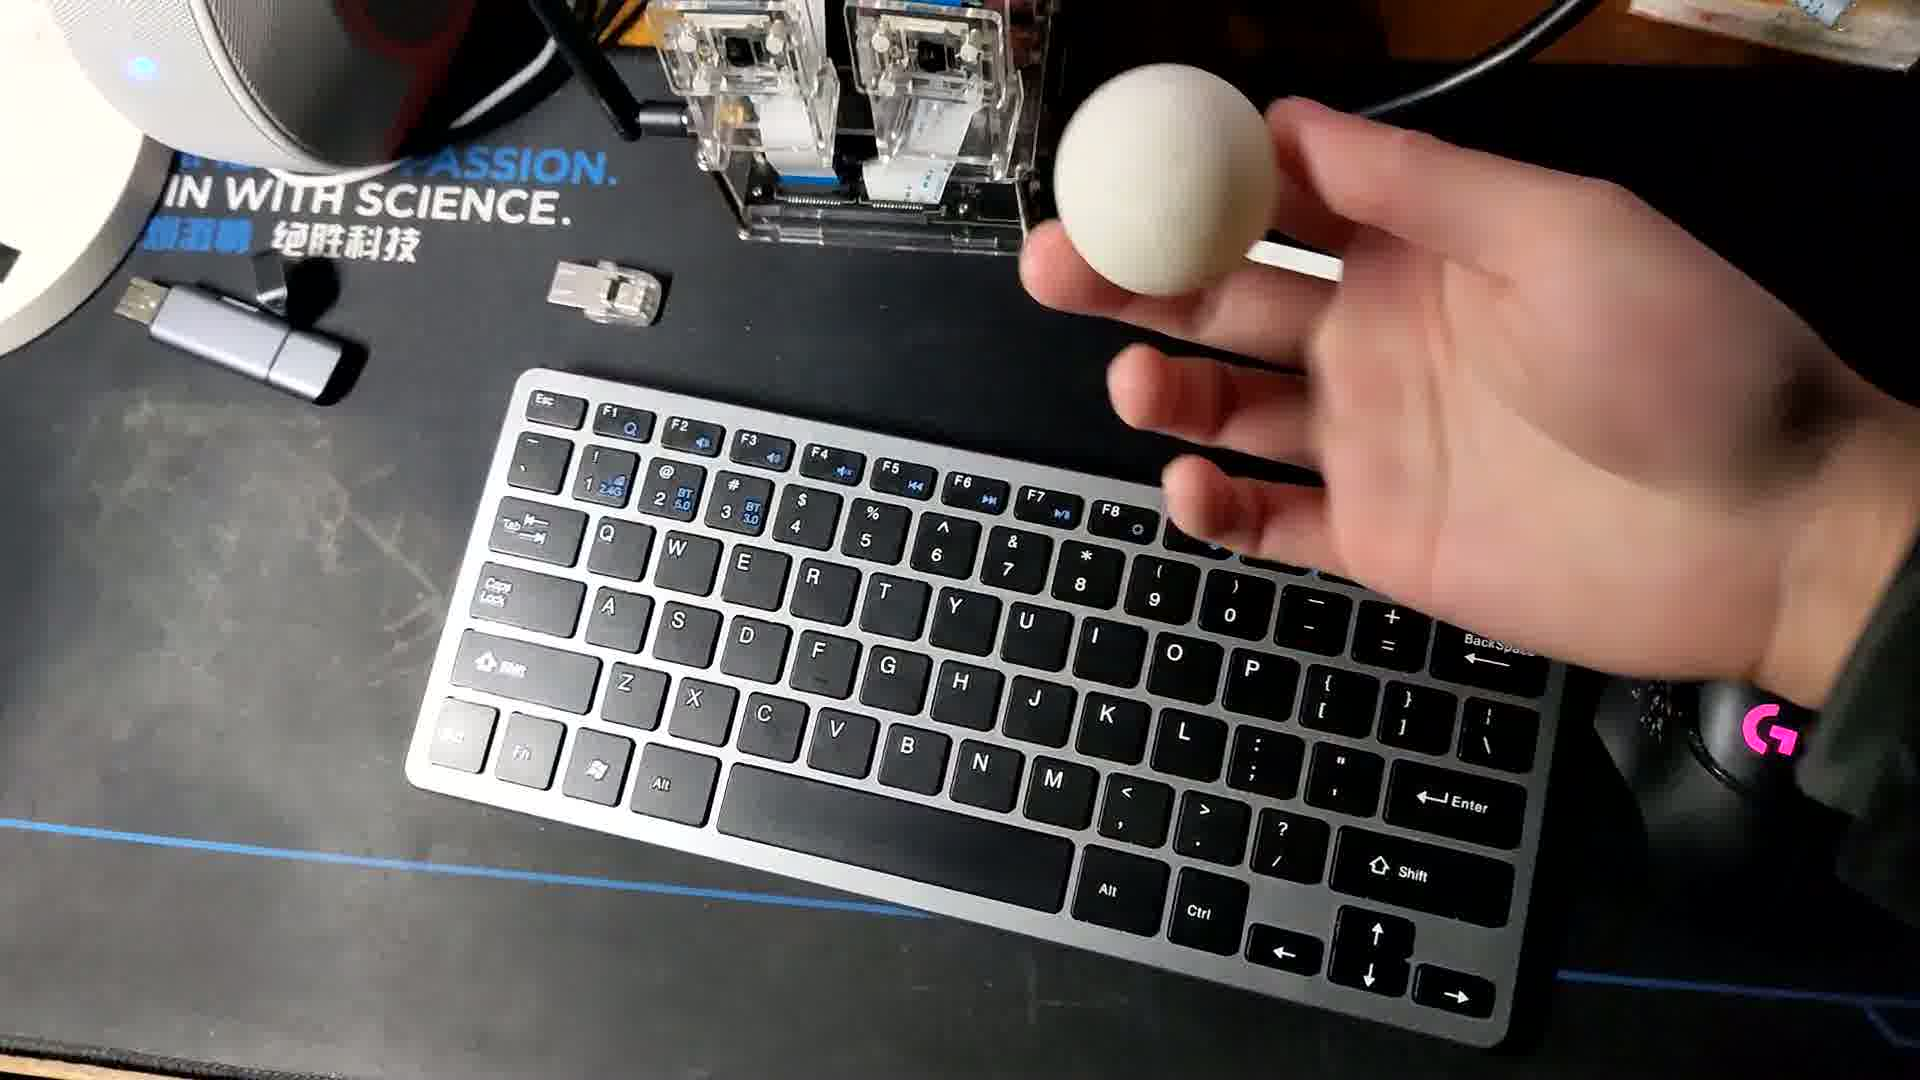Ball: (1048, 69, 1282, 311)
